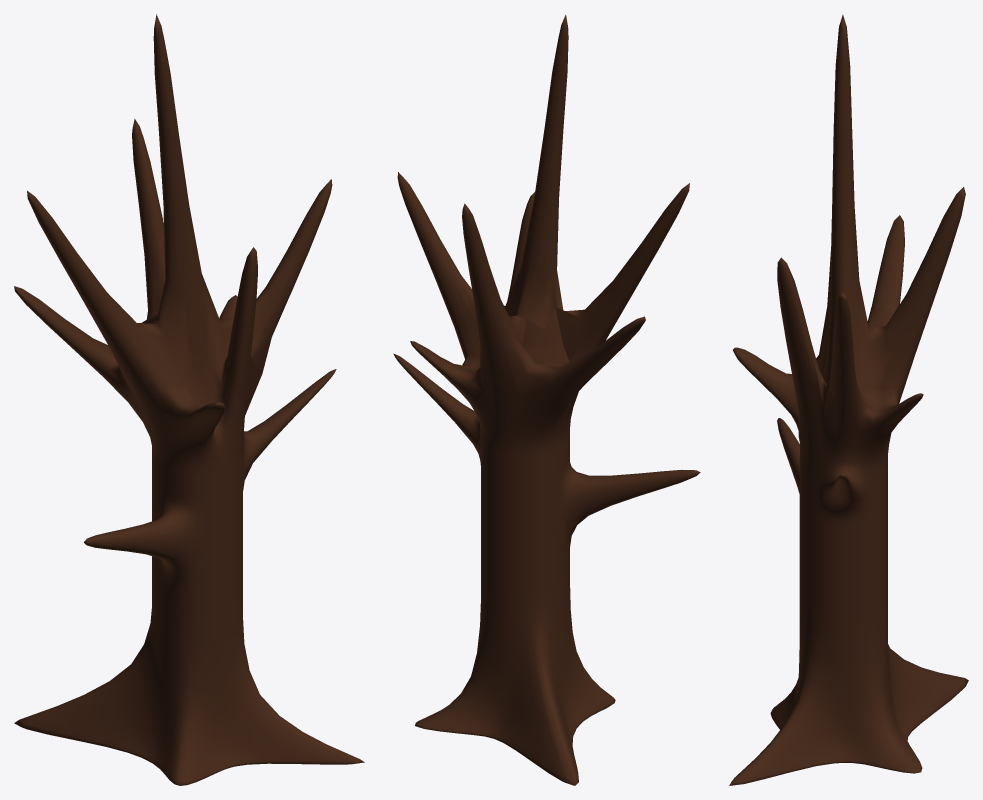
Rendered from DeadTree.fbx.
The picture shows the model from 3 angles, left to right: view 1: azimuth 30°, elevation 25°; view 2: azimuth 150°, elevation 25°; view 3: azimuth 270°, elevation 25°; orthographic projection. The views are drawn at different scales.
Parts seen in each view (by area): view 1: pCube1; view 2: pCube1; view 3: pCube1.
Part boxes in pixels (left/top/right/bottom): pCube1: left=14, top=14, right=364, bottom=785; pCube1: left=393, top=14, right=700, bottom=785; pCube1: left=729, top=14, right=968, bottom=785.
Bounding box in the file's own units: 1.92 × 4.4 × 1.35.
